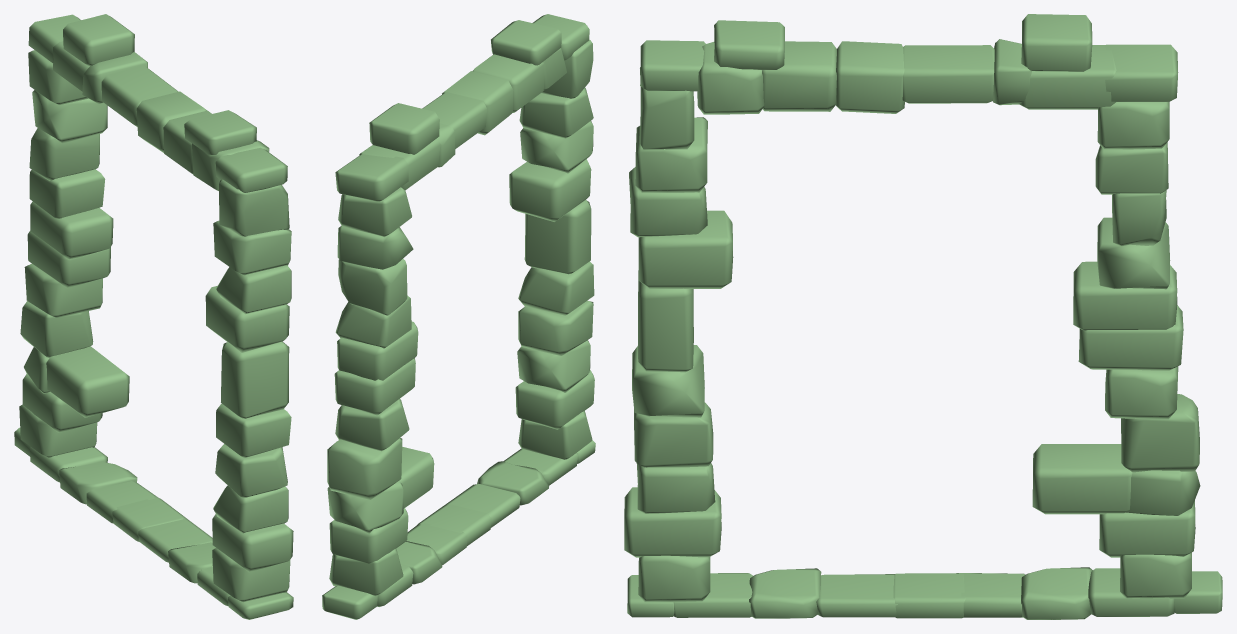
File: Wall_Break_05_Lod0.fbx
3 views of the same model, side by side, from view 1: azimuth 30°, elevation 25°; view 2: azimuth 150°, elevation 25°; view 3: azimuth 270°, elevation 25° (orthographic). The views are drawn at different scales.
Parts seen in each view (by area): view 1: Wall_Break_05_Lod0; view 2: Wall_Break_05_Lod0; view 3: Wall_Break_05_Lod0.
Boxes of the visible parts, left/top/right/bottom form: Wall_Break_05_Lod0: left=14, top=14, right=293, bottom=619; Wall_Break_05_Lod0: left=322, top=14, right=595, bottom=619; Wall_Break_05_Lod0: left=624, top=14, right=1222, bottom=619.
Size of the model in its own units: 41.67 by 322 by 301.
